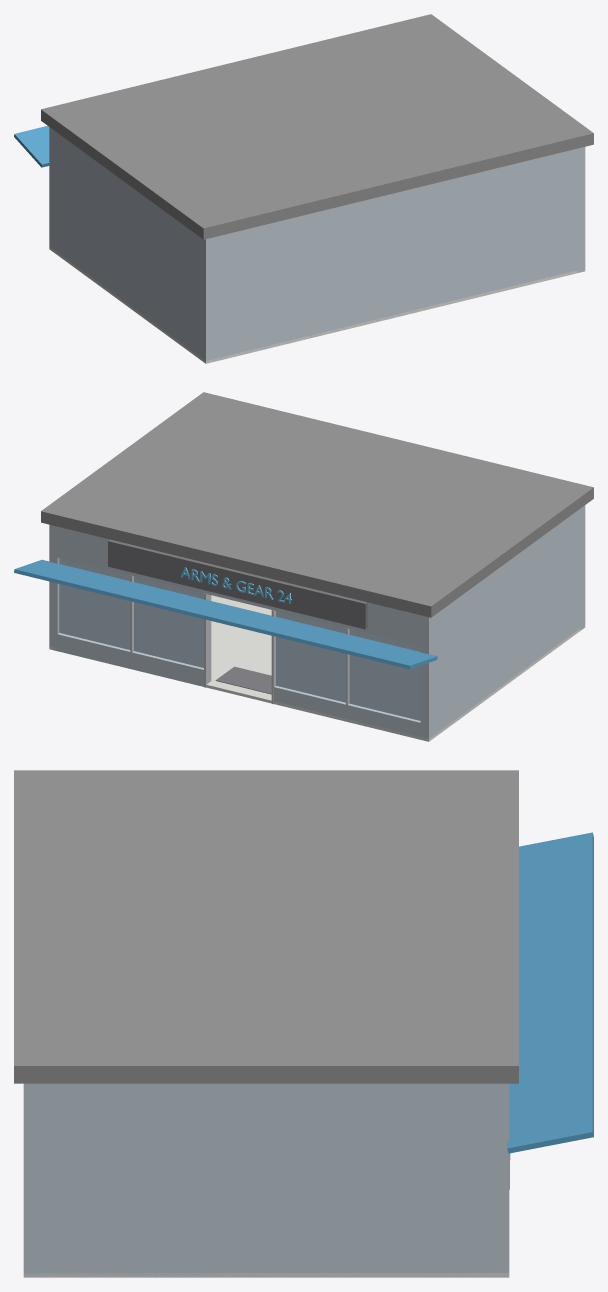
File: Building_Shop.fbx
The picture shows the model from 3 angles, top to bottom: view 1: azimuth 30°, elevation 25°; view 2: azimuth 150°, elevation 25°; view 3: azimuth 270°, elevation 25°; orthographic projection. The views are drawn at different scales.
Parts seen in each view (by area): view 1: Building_Shop_Mesh; view 2: Building_Shop_Mesh; view 3: Building_Shop_Mesh.
Part boxes in pixels (x1,y1,x2,y2): Building_Shop_Mesh: (14,14,593,363); Building_Shop_Mesh: (14,392,593,741); Building_Shop_Mesh: (14,770,593,1277).
Size of the model in its own units: 14.6 by 11.94 by 4.9.
